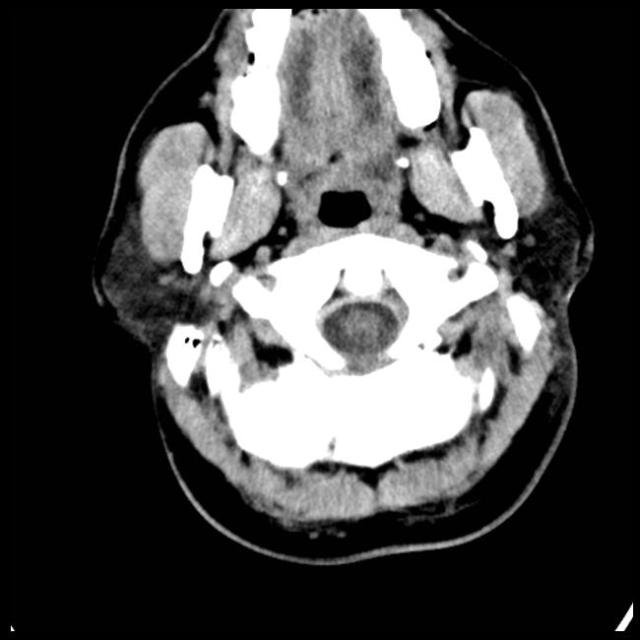lesion: (89, 5, 596, 560)
